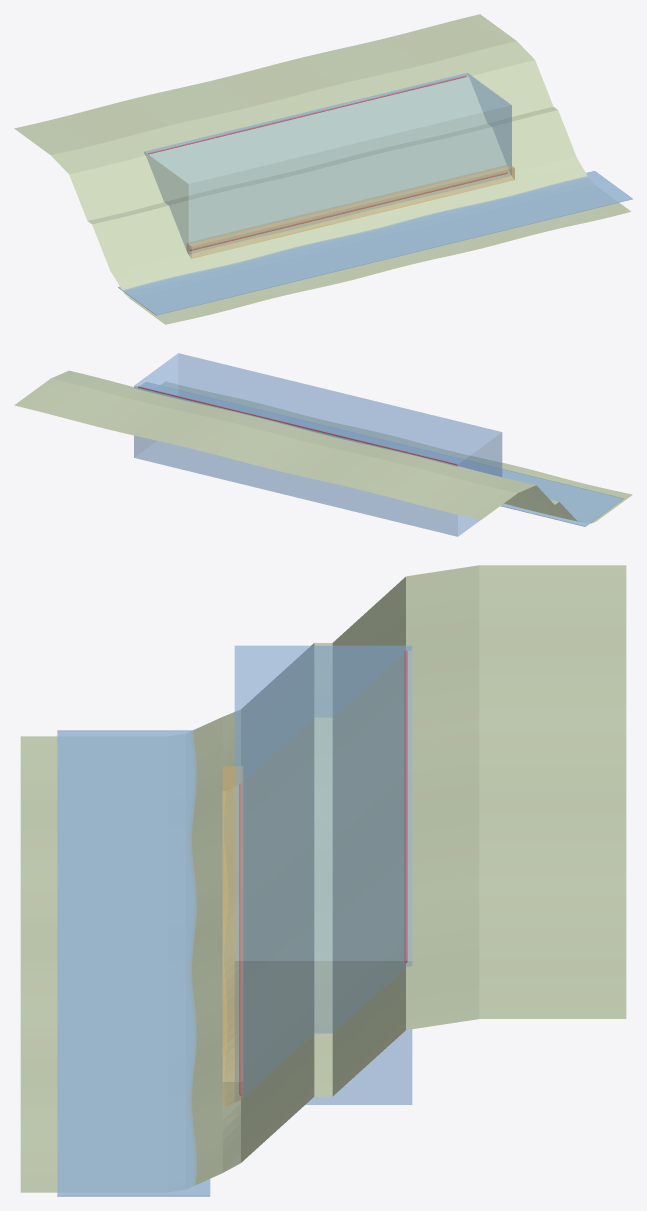
3 views of the same model, one above another, from view 1: azimuth 30°, elevation 25°; view 2: azimuth 150°, elevation 25°; view 3: azimuth 270°, elevation 25° (orthographic). The views are drawn at different scales.
Parts seen in each view (by area): view 1: 地形|現況地形 (参考), 概略形状|法面保護工 範囲ボックス, 地形|水面 (参考), 概略形状|かご工 範囲ボックス, 線形|法面保護工 範囲 (法肩線・法尻線); view 2: 地形|現況地形 (参考), 概略形状|法面保護工 範囲ボックス, 地形|水面 (参考), 線形|法面保護工 範囲 (法肩線・法尻線); view 3: 地形|現況地形 (参考), 概略形状|法面保護工 範囲ボックス, 地形|水面 (参考), 概略形状|かご工 範囲ボックス, 線形|法面保護工 範囲 (法肩線・法尻線).
Part boxes in pixels (<box>): 地形|現況地形 (参考): <box>14,14,630,324</box>; 概略形状|法面保護工 範囲ボックス: <box>144,73,511,254</box>; 地形|水面 (参考): <box>118,171,632,315</box>; 概略形状|かご工 範囲ボックス: <box>186,164,514,258</box>; 線形|法面保護工 範囲 (法肩線・法尻線): <box>148,75,507,250</box>; 地形|現況地形 (参考): <box>14,370,632,523</box>; 概略形状|法面保護工 範囲ボックス: <box>134,353,502,536</box>; 地形|水面 (参考): <box>139,382,623,526</box>; 線形|法面保護工 範囲 (法肩線・法尻線): <box>138,386,456,464</box>; 地形|現況地形 (参考): <box>20,565,626,1192</box>; 概略形状|法面保護工 範囲ボックス: <box>234,645,412,1104</box>; 地形|水面 (参考): <box>57,730,210,1196</box>; 概略形状|かご工 範囲ボックス: <box>222,766,242,1106</box>; 線形|法面保護工 範囲 (法肩線・法尻線): <box>239,650,407,1095</box>.
Bounding box in the file's own units: 90 × 15.7 × 49.5.
